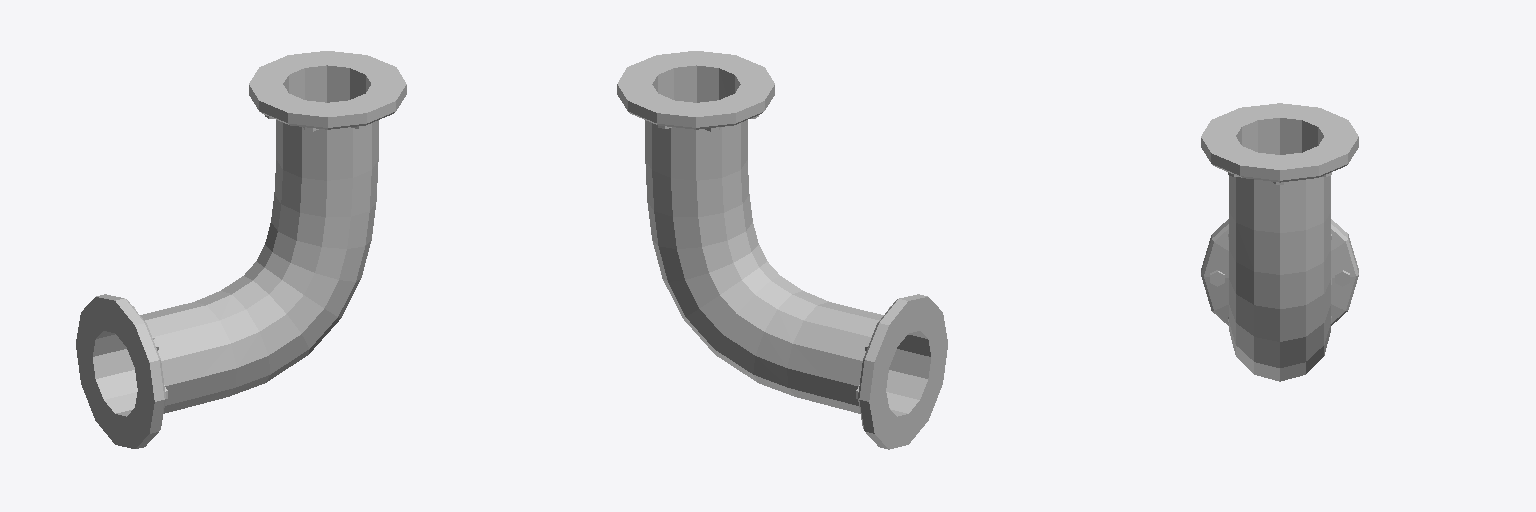
Rendered from modular_industrial_pipes_01-04.obj.
3 renders of one model, left to right at view 1: azimuth 30°, elevation 25°; view 2: azimuth 150°, elevation 25°; view 3: azimuth 270°, elevation 25°, orthographic.
Visible parts, largest first — view 1: modular_industrial_pipes_01_pipe04; view 2: modular_industrial_pipes_01_pipe04; view 3: modular_industrial_pipes_01_pipe04.
Boxes of the visible parts, <box> form: modular_industrial_pipes_01_pipe04: <box>76,51,406,448</box>; modular_industrial_pipes_01_pipe04: <box>617,51,947,449</box>; modular_industrial_pipes_01_pipe04: <box>1201,103,1358,381</box>.
Size of the model in its own units: 0.4241 by 0.4446 by 0.2063.